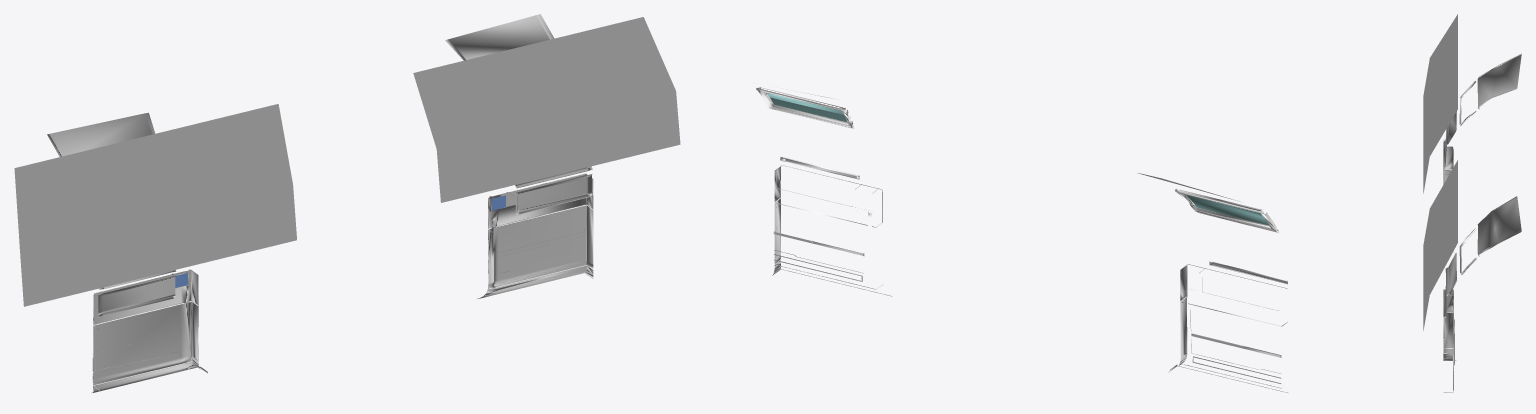
The model's file is NorthWall_clean_business_arch_uee_01_center.glb.
3 views of the same model, side by side, from view 1: azimuth 30°, elevation 25°; view 2: azimuth 150°, elevation 25°; view 3: azimuth 270°, elevation 25° (orthographic). The views are drawn at different scales.
Bounding box in the file's own units: 66.5 × 23.53 × 11.65.
